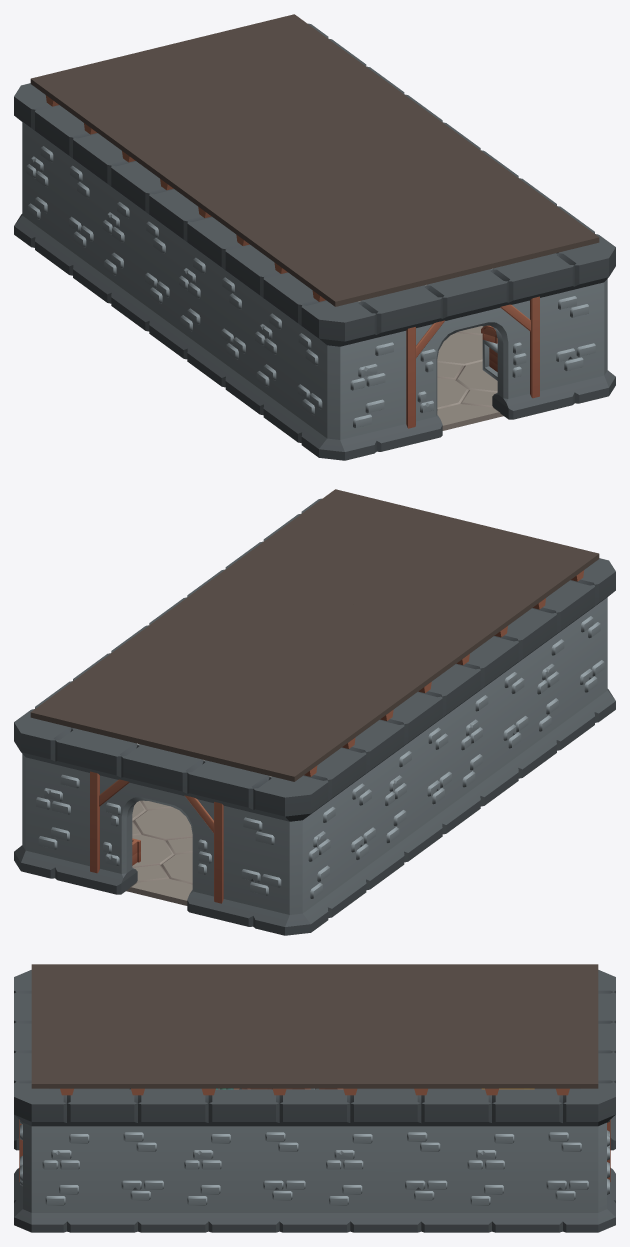
File: coridor0.glb
3 views of the same model, one above another, from view 1: azimuth 30°, elevation 25°; view 2: azimuth 150°, elevation 25°; view 3: azimuth 270°, elevation 25° (orthographic). The views are drawn at different scales.
Visible parts, largest first — view 1: wall_corner.002, wall_doorway_scaffold.001, wall.001, wall_shelves, wall, ceiling_tile.002, wall_corner.003, ceiling_tile.001, ceiling_tile.007, ceiling_tile.006, ceiling_tile.003, ceiling_tile.005 (+6 smaller); view 2: wall_corner.001, wall_doorway_scaffold, wall, wall.001, wall_shelves, ceiling_tile.006, wall_corner.004, ceiling_tile.004, ceiling_tile.003, ceiling_tile.002, ceiling_tile.007, ceiling_tile (+5 smaller); view 3: wall.003, wall_shelves.001, wall.004, wall_corner.004, wall_corner.003, ceiling_tile.001, ceiling_tile.004, ceiling_tile, ceiling_tile.005, ceiling_tile.002, ceiling_tile.006, ceiling_tile.003 (+5 smaller).
Boxes of the visible parts, box(x1,y1,x2,y2) form: wall_corner.002: box(280, 285, 410, 460); wall_doorway_scaffold.001: box(393, 261, 542, 444); wall.001: box(128, 174, 229, 373); wall_shelves: box(204, 230, 305, 429); wall: box(52, 118, 152, 317); ceiling_tile.002: box(259, 214, 467, 306); wall_corner.003: box(525, 219, 615, 412); ceiling_tile.001: box(391, 181, 599, 274); ceiling_tile.007: box(106, 102, 314, 194); ceiling_tile.006: box(30, 46, 238, 139); ceiling_tile.003: box(183, 158, 390, 250); ceiling_tile.005: box(239, 70, 446, 157); wall_corner.001: box(219, 760, 349, 935); wall_doorway_scaffold: box(87, 736, 236, 919); wall: box(324, 705, 425, 904); wall.001: box(400, 649, 501, 848); wall_shelves: box(477, 593, 577, 792); ceiling_tile.006: box(162, 689, 370, 781); wall_corner.004: box(14, 694, 104, 887); ceiling_tile.004: box(30, 656, 238, 749); ceiling_tile.003: box(315, 577, 523, 669); ceiling_tile.002: box(391, 521, 599, 614); ceiling_tile.007: box(239, 633, 446, 725); ceiling_tile: box(183, 545, 390, 632); wall.003: box(102, 1089, 244, 1232); wall_shelves.001: box(385, 1089, 527, 1232); wall.004: box(244, 1089, 385, 1232); wall_corner.004: box(527, 1067, 615, 1232); wall_corner.003: box(14, 1067, 102, 1232); ceiling_tile.001: box(31, 1024, 173, 1095); ceiling_tile.004: box(456, 1024, 598, 1095); ceiling_tile: box(173, 1024, 314, 1095); ceiling_tile.005: box(315, 1024, 456, 1095); ceiling_tile.002: box(31, 964, 173, 1023); ceiling_tile.006: box(456, 964, 598, 1023); ceiling_tile.003: box(173, 964, 314, 1023).
Bounding box in the file's own units: 9 × 4.5 × 17.
14 materials, 14 textured.
